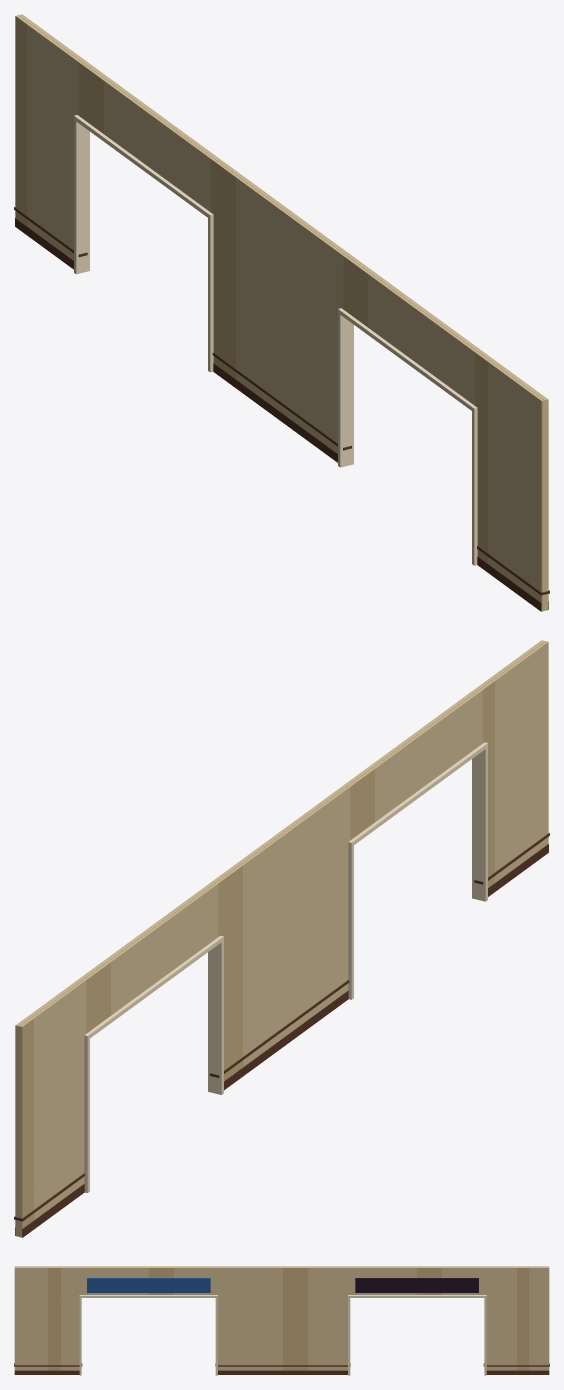
The model's file is mall_west_front.glb.
3 renders of one model, top to bottom at view 1: azimuth 30°, elevation 25°; view 2: azimuth 150°, elevation 25°; view 3: azimuth 270°, elevation 25°, orthographic. The views are drawn at different scales.
Visible parts, largest first — view 1: Box3, Box5, Box1, Box7, Box8, Box12, Box9, Box4, Box11, Box14, Box10, Box13; view 2: Box3, Box1, Box5, Box8, Box7, Box10, Box13, Box4, Box11, Box14, Box9, Box12; view 3: Box3, Box5, Box1, Box7, Box8, Box15, Box16, Box4, Box11, Box14, Box6, Box2 (+6 smaller).
Boxes of the visible parts, bbox=[...] form: Box3: bbox=[211, 157, 349, 453]; Box5: bbox=[475, 351, 548, 611]; Box1: bbox=[15, 14, 85, 260]; Box7: bbox=[79, 61, 217, 212]; Box8: bbox=[343, 254, 481, 405]; Box12: bbox=[338, 308, 353, 467]; Box9: bbox=[74, 115, 89, 274]; Box4: bbox=[213, 363, 337, 462]; Box11: bbox=[76, 116, 210, 217]; Box14: bbox=[340, 310, 474, 410]; Box10: bbox=[208, 213, 213, 372]; Box13: bbox=[472, 406, 477, 565]; Box3: bbox=[212, 785, 350, 1080]; Box1: bbox=[15, 978, 86, 1237]; Box5: bbox=[476, 640, 548, 887]; Box8: bbox=[344, 688, 482, 840]; Box7: bbox=[80, 882, 218, 1033]; Box10: bbox=[208, 935, 223, 1094]; Box13: bbox=[472, 742, 487, 901]; Box4: bbox=[224, 990, 348, 1090]; Box11: bbox=[87, 937, 221, 1038]; Box14: bbox=[351, 744, 485, 844]; Box9: bbox=[84, 1033, 89, 1192]; Box12: bbox=[348, 840, 353, 999]; Box3: bbox=[216, 1266, 349, 1370]; Box5: bbox=[14, 1266, 81, 1370]; Box1: bbox=[484, 1266, 549, 1370]; Box7: bbox=[350, 1266, 484, 1294]; Box8: bbox=[81, 1266, 215, 1294]; Box15: bbox=[355, 1278, 478, 1292]; Box16: bbox=[87, 1278, 210, 1292]; Box4: bbox=[218, 1370, 347, 1374]; Box11: bbox=[350, 1295, 484, 1297]; Box14: bbox=[81, 1295, 215, 1297]; Box6: bbox=[14, 1370, 79, 1374]; Box2: bbox=[486, 1370, 549, 1374].
Bounding box in the file's own units: 0.305 × 4.4 × 19.97.
Materials: 5 (1 with a texture image).
